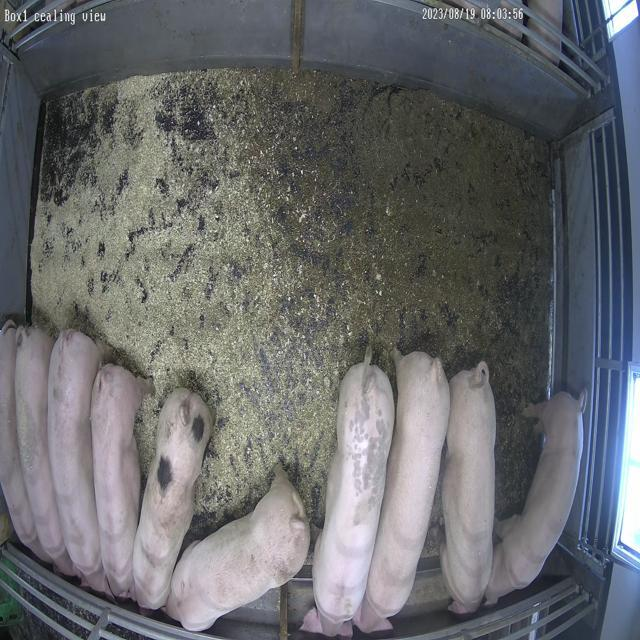Dirt: (248, 71, 552, 510)
Pig: (301, 350, 395, 638), (357, 352, 451, 632), (166, 466, 310, 632), (486, 393, 586, 606), (133, 389, 213, 610), (47, 330, 109, 594), (14, 327, 74, 576), (91, 365, 151, 600), (442, 362, 497, 616), (0, 321, 49, 562)
